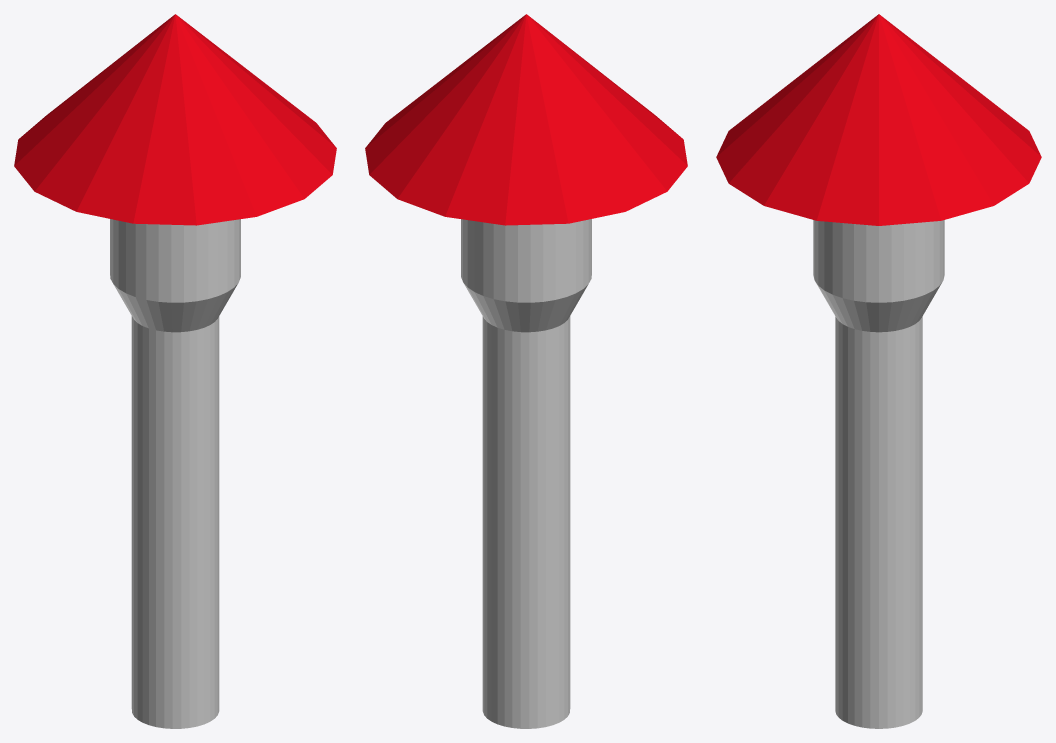
The model's file is Corn Tower.fbx.
3 views of the same model, side by side, from view 1: azimuth 30°, elevation 25°; view 2: azimuth 150°, elevation 25°; view 3: azimuth 270°, elevation 25° (orthographic).
Parts seen in each view (by area): view 1: Cylinder, Cone; view 2: Cylinder, Cone; view 3: Cylinder, Cone.
Boxes of the visible parts, x1,y1,x2,y2 form: Cylinder: [110, 219, 240, 728]; Cone: [14, 14, 336, 225]; Cylinder: [461, 219, 591, 728]; Cone: [365, 14, 687, 225]; Cylinder: [813, 220, 944, 728]; Cone: [716, 14, 1041, 225].
Size of the model in its own units: 744 by 1756 by 744.
